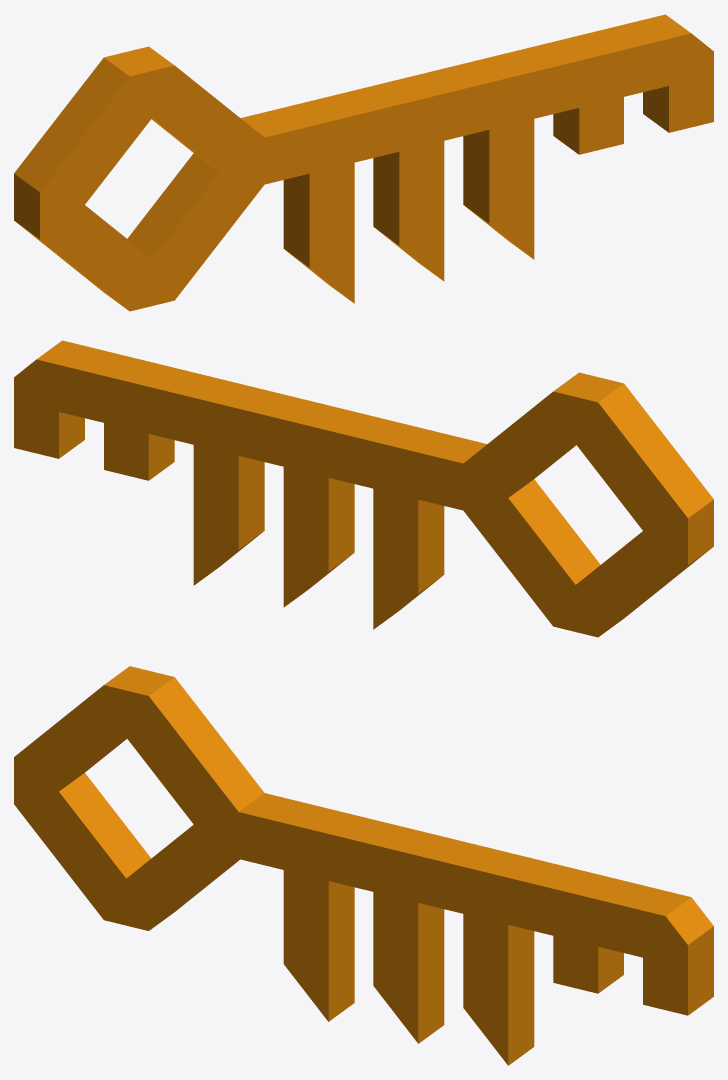
File: Items.fbx_Key_2.fbx
3 views of the same model, one above another, from view 1: azimuth 30°, elevation 25°; view 2: azimuth 150°, elevation 25°; view 3: azimuth 330°, elevation 25° (orthographic).
Parts seen in each view (by area): view 1: Key 2; view 2: Key 2; view 3: Key 2.
Part boxes in pixels (<box>): Key 2: <box>14,14,713,311</box>; Key 2: <box>14,340,713,637</box>; Key 2: <box>14,666,713,1065</box>.
Size of the model in its own units: 0.3 by 0.12 by 0.02.
